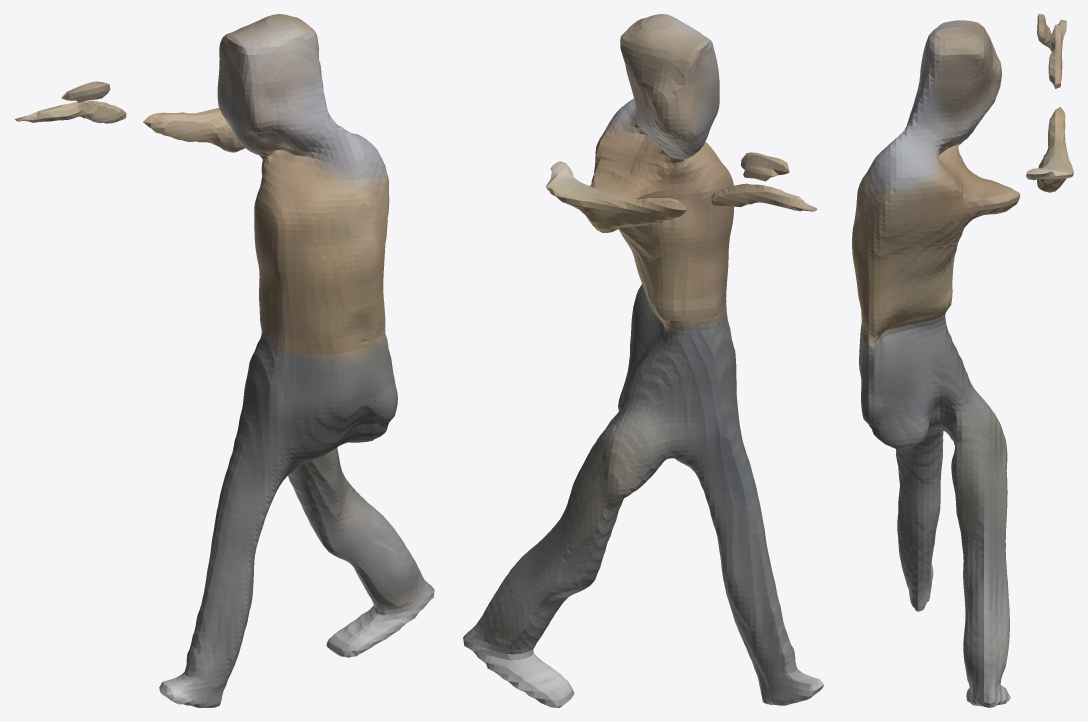
Rendered from a_man_getting_electricuted.glb.
The picture shows the model from 3 angles, left to right: view 1: azimuth 30°, elevation 25°; view 2: azimuth 150°, elevation 25°; view 3: azimuth 270°, elevation 25°; orthographic projection. The views are drawn at different scales.
Visible parts, largest first — view 1: tmp208k2klq.ply; view 2: tmp208k2klq.ply; view 3: tmp208k2klq.ply.
Boxes of the visible parts, x1=… form: tmp208k2klq.ply: x1=14, y1=14, x2=434, y2=707; tmp208k2klq.ply: x1=463, y1=14, x2=823, y2=707; tmp208k2klq.ply: x1=852, y1=14, x2=1073, y2=707.
Bounding box in the file's own units: 1.18 × 1.97 × 0.6272.
